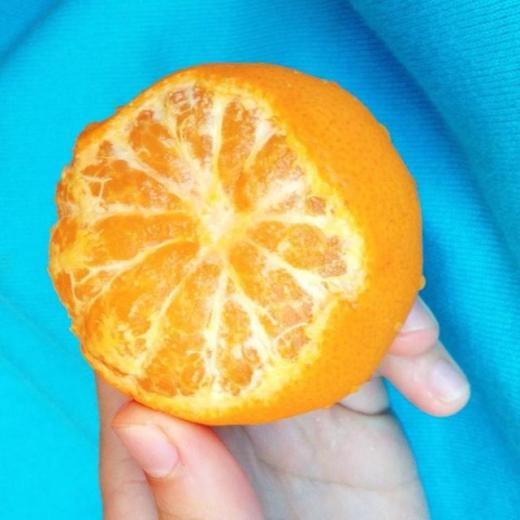Grape: (56, 62, 423, 424)
